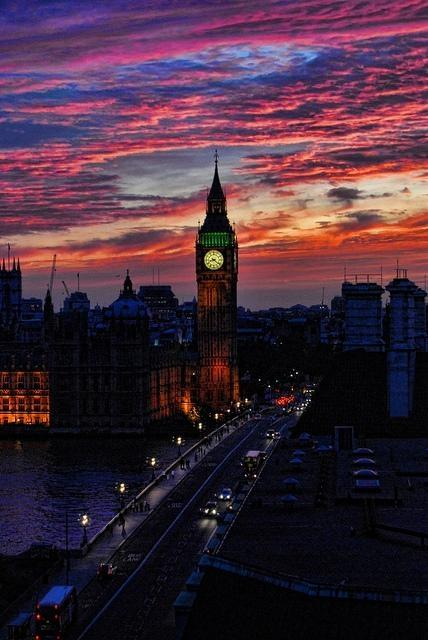bus: (36, 585, 78, 640)
car: (96, 564, 119, 582), (202, 501, 218, 516), (353, 447, 375, 457), (219, 489, 232, 500), (272, 431, 281, 442), (266, 428, 275, 438), (261, 452, 268, 462), (254, 414, 262, 421), (296, 404, 304, 410), (302, 401, 308, 407), (306, 397, 312, 402)
